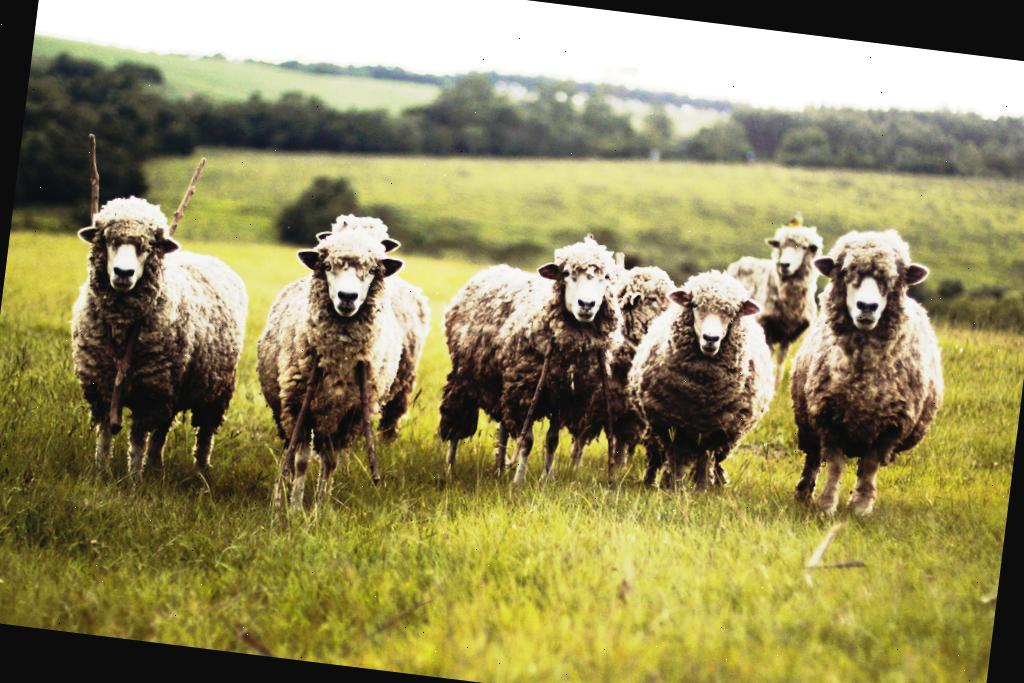Sheep: (48, 187, 263, 500), (767, 215, 968, 534), (421, 221, 637, 499), (236, 219, 418, 530), (613, 257, 790, 502), (290, 208, 441, 442), (709, 212, 832, 394), (590, 262, 685, 488)
